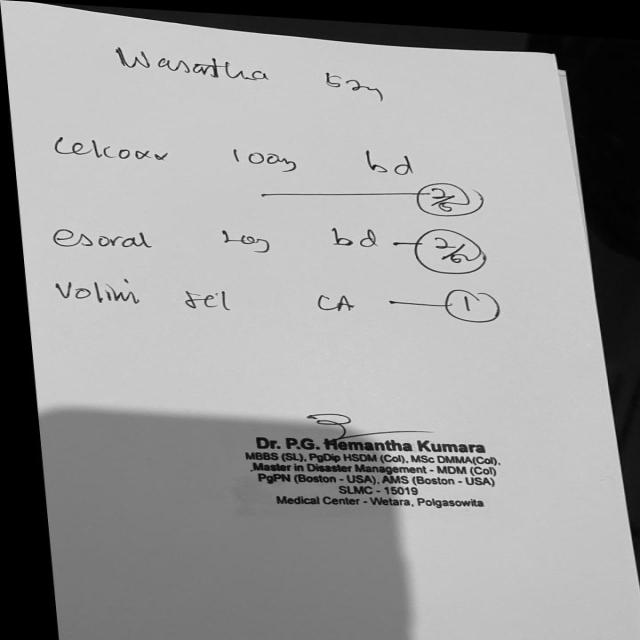Prescription: (44, 202, 380, 268), (47, 126, 420, 180), (48, 271, 360, 319)
